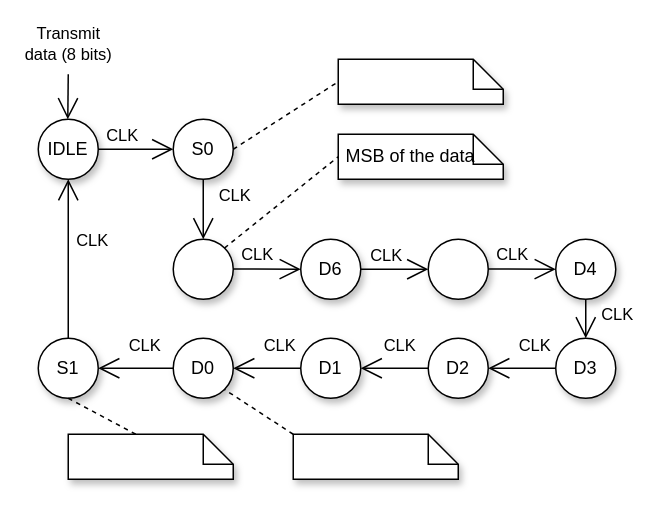
The diagram is 659 pixels wide and 518 high, and some of its shapes have lost their labels. Here are the shapes that lost their labels. From the top down, the centre of each, then its label:
point (421, 83): Start bit is sent
point (204, 271): D7
point (459, 271): D5
point (151, 458): Stop bit is sent
point (376, 458): LSB of the data
